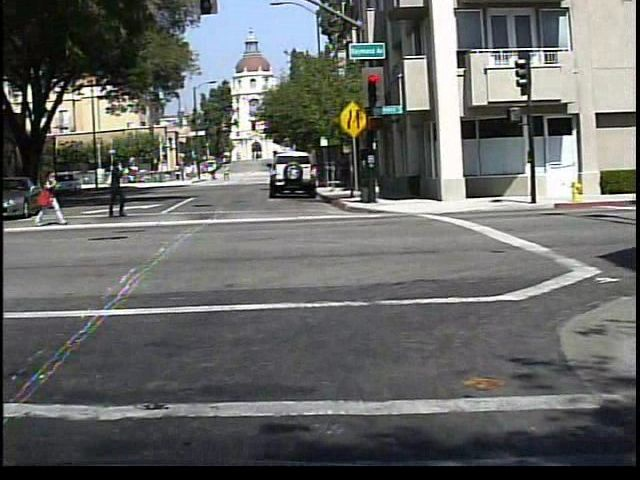person: (95, 157, 132, 222), (31, 163, 63, 230), (217, 164, 229, 184), (206, 165, 216, 184)
